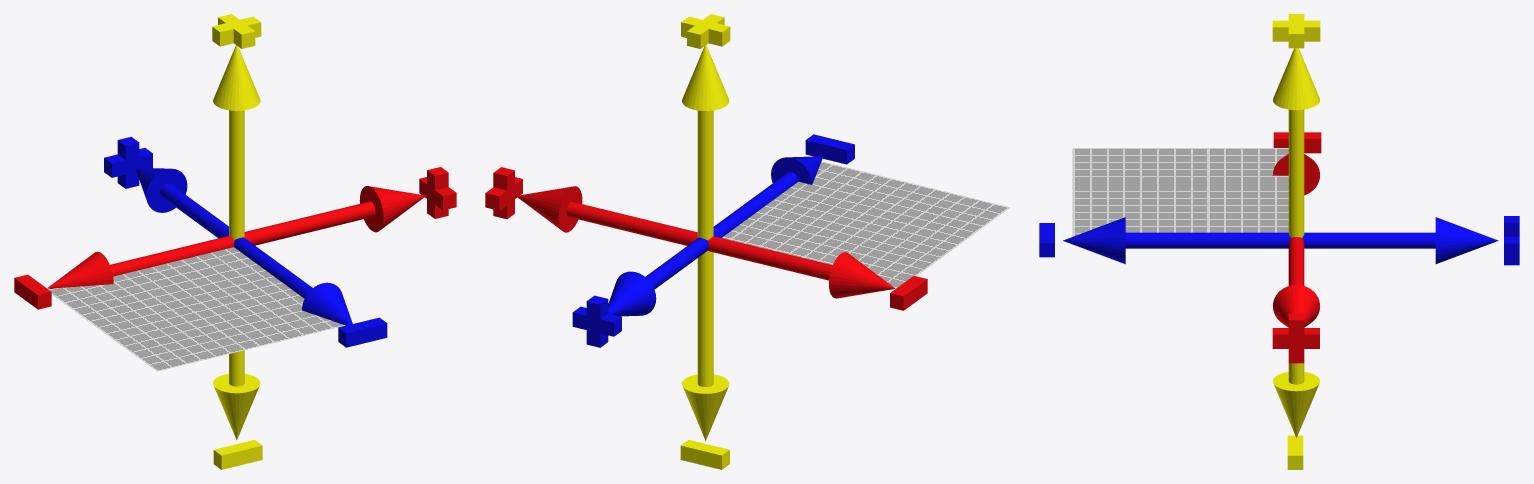
File: reference.obj
The picture shows the model from 3 angles, left to right: view 1: azimuth 30°, elevation 25°; view 2: azimuth 150°, elevation 25°; view 3: azimuth 270°, elevation 25°; orthographic projection.
Parts seen in each view (by area): view 1: Plane, Cylinder.001_Cylinder.004, Cylinder.000_Cylinder.003, Cylinder.002_Cylinder; view 2: Plane, Cylinder.000_Cylinder.003, Cylinder.001_Cylinder.004, Cylinder.002_Cylinder; view 3: Plane, Cylinder.002_Cylinder, Cylinder.000_Cylinder.003, Cylinder.001_Cylinder.004.
Boxes of the visible parts, box(x1,y1,x2,y2) form: Plane: box(49, 247, 345, 371); Cylinder.001_Cylinder.004: box(14, 167, 456, 309); Cylinder.000_Cylinder.003: box(212, 14, 262, 469); Cylinder.002_Cylinder: box(104, 136, 387, 347); Plane: box(722, 161, 1009, 287); Cylinder.000_Cylinder.003: box(680, 14, 730, 469); Cylinder.001_Cylinder.004: box(485, 167, 927, 310); Cylinder.002_Cylinder: box(572, 134, 854, 347); Plane: box(1072, 148, 1288, 236); Cylinder.002_Cylinder: box(1039, 216, 1519, 265); Cylinder.000_Cylinder.003: box(1272, 14, 1320, 469); Cylinder.001_Cylinder.004: box(1272, 132, 1321, 363).
Bounding box in the file's own units: 30.44 × 30.44 × 30.44.
4 materials, 4 textured.
